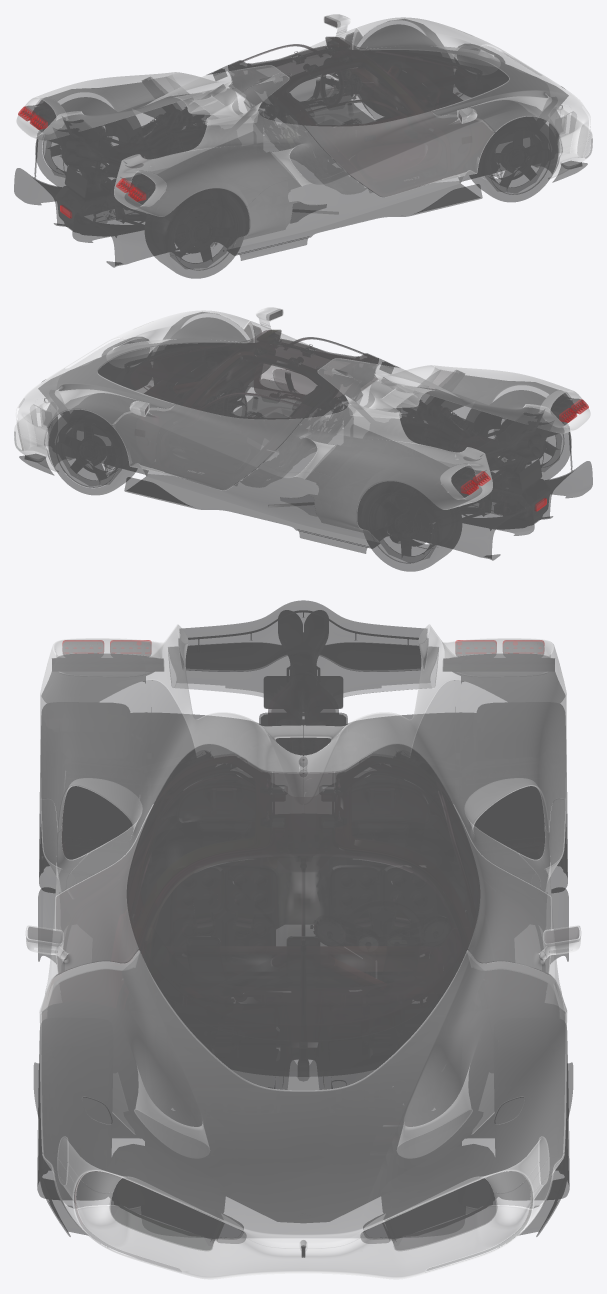
Rendered from car_sport.gltf.
3 renders of one model, top to bottom at view 1: azimuth 30°, elevation 25°; view 2: azimuth 150°, elevation 25°; view 3: azimuth 270°, elevation 25°, orthographic. The views are drawn at different scales.
Parts seen in each view (by area): view 1: desirefx_me_025; view 2: desirefx_me_025; view 3: desirefx_me_025.
Part boxes in pixels (left/top/right/bottom): desirefx_me_025: left=14, top=14, right=592, bottom=278; desirefx_me_025: left=14, top=307, right=592, bottom=571; desirefx_me_025: left=26, top=600, right=580, bottom=1279.
Bounding box in the file's own units: 3.83 × 0.9697 × 1.82.
26 materials, 22 textured.
